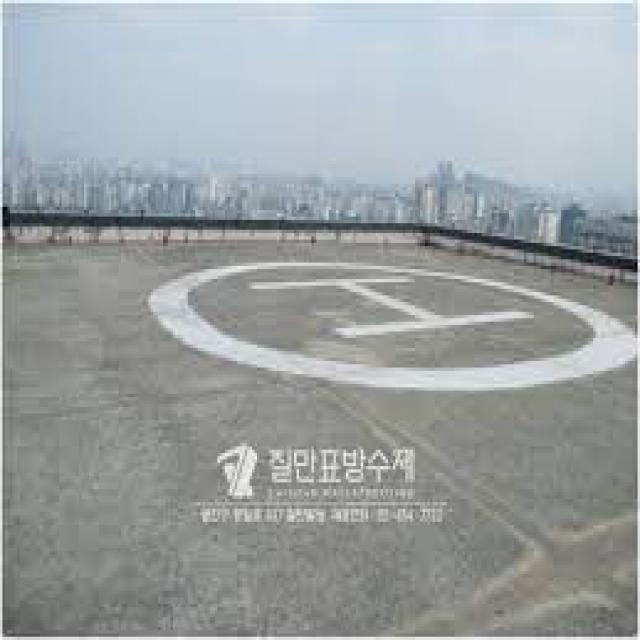helipad: (133, 243, 638, 397)
